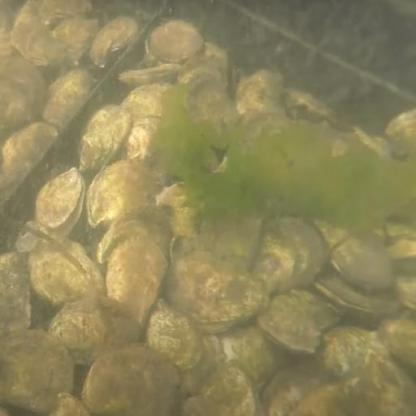3: (36, 167, 85, 236)
Oyster- Indeterminate: (251, 296, 324, 355), (99, 204, 171, 261), (147, 19, 205, 64), (314, 275, 380, 312), (120, 61, 178, 83), (385, 113, 416, 139)
Oyster-Closed: (164, 248, 268, 330), (82, 343, 179, 416), (46, 296, 142, 368), (0, 329, 74, 413), (106, 230, 169, 321), (25, 239, 104, 303), (262, 217, 327, 293), (293, 375, 413, 416), (181, 68, 241, 149), (88, 162, 163, 226), (147, 296, 203, 364), (178, 371, 255, 416), (80, 105, 132, 171), (0, 58, 45, 133), (332, 239, 391, 288), (251, 227, 295, 291), (13, 17, 65, 67), (157, 184, 203, 238), (44, 70, 90, 122), (0, 251, 30, 330), (92, 16, 140, 65), (324, 327, 372, 375), (5, 122, 53, 168), (286, 290, 344, 328), (117, 117, 160, 165), (236, 70, 283, 113), (377, 316, 416, 365), (53, 19, 97, 62), (118, 84, 172, 119), (387, 240, 416, 265)
